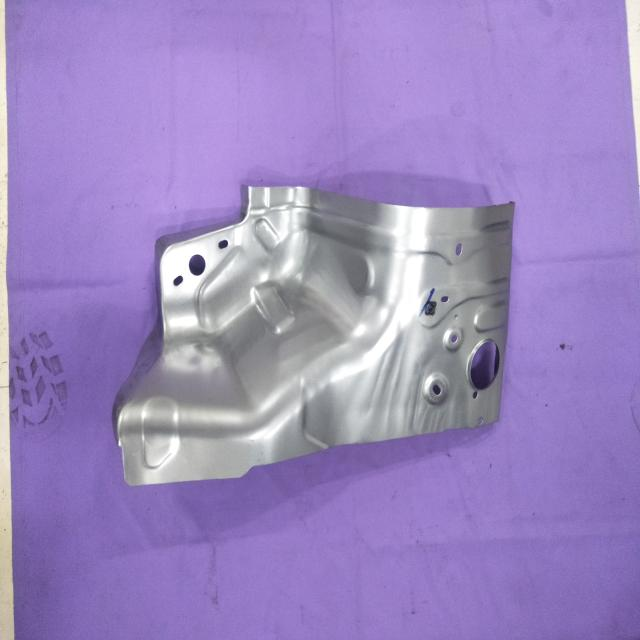Healthy: (111, 177, 516, 488)
